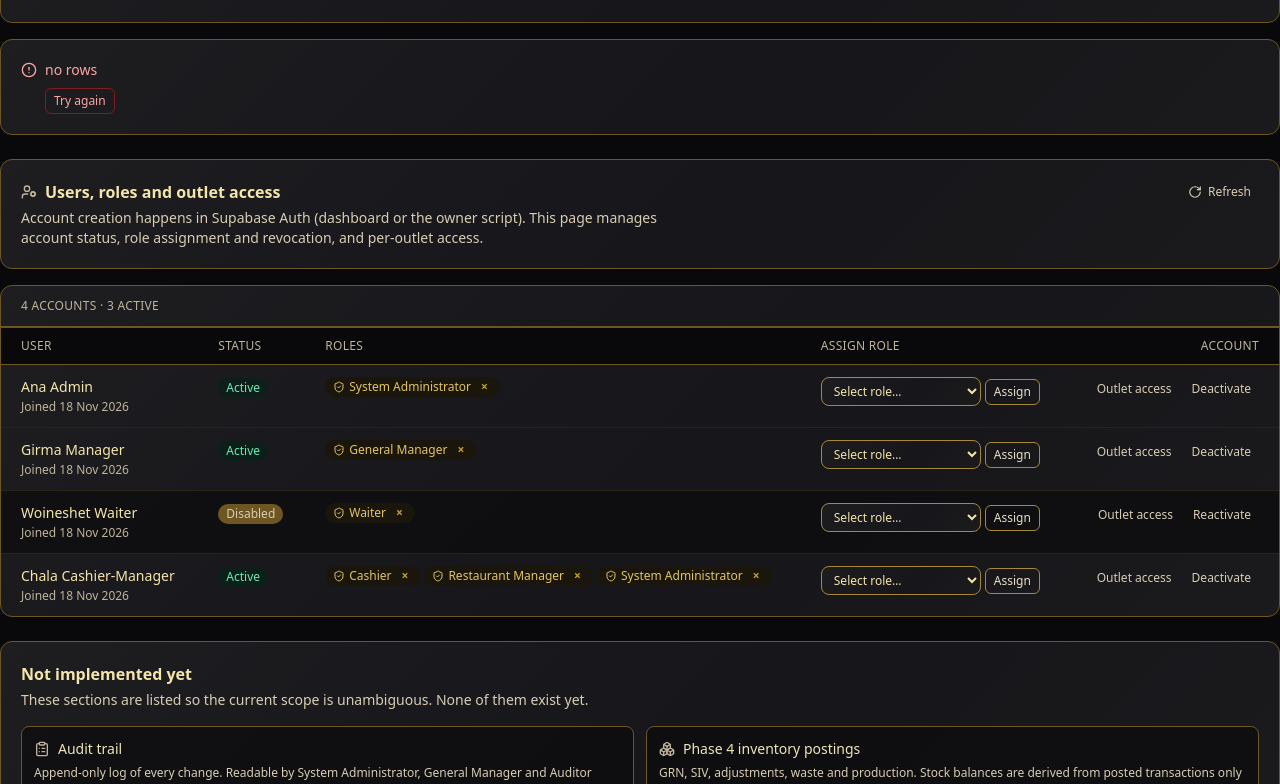
Test: Settings — users › blocks assigning a role the account already has
(page scrolled)
expect the text "Ana Admin" is shown: met, box [21,377,93,396]
Select "System Administrator" in the dropdown named "Role for Ana Admin": (901, 392) [821,377,981,406]
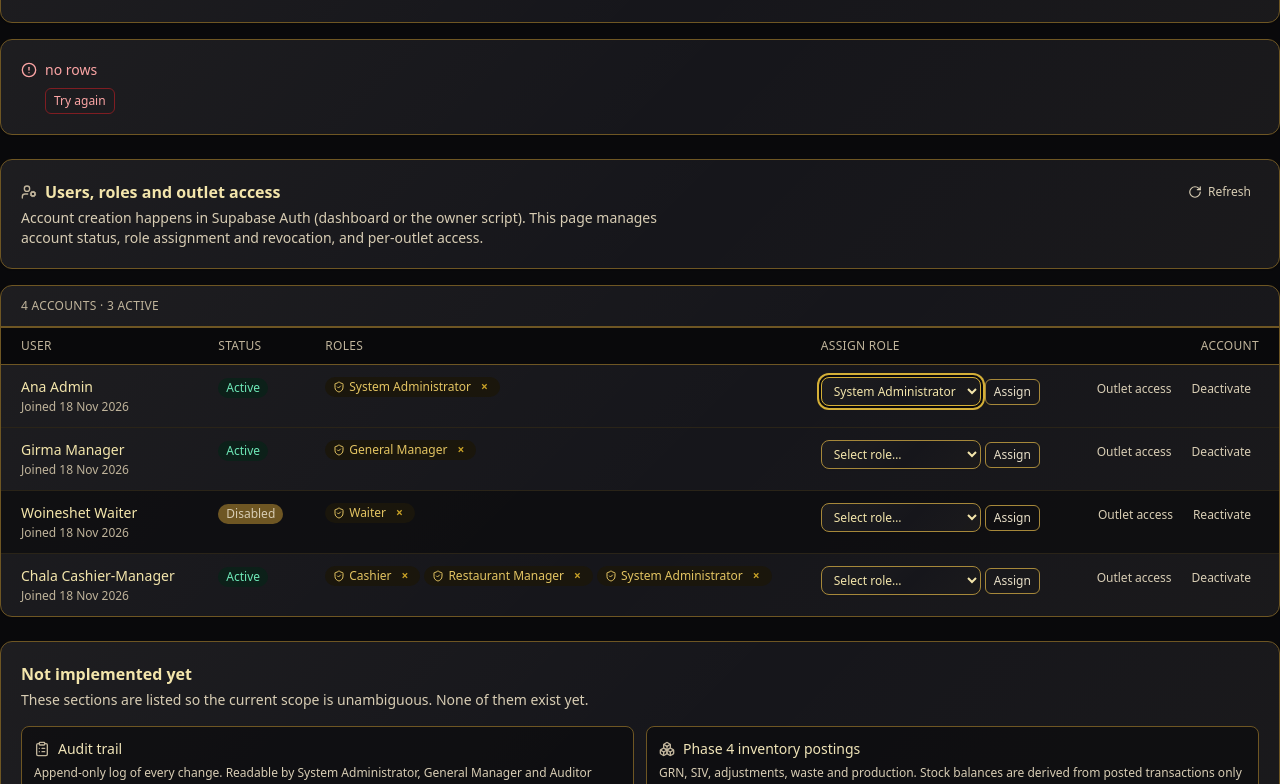
Click the button with aria-label "Assign role to Ana Admin": (1012, 392) [985,378,1040,404]
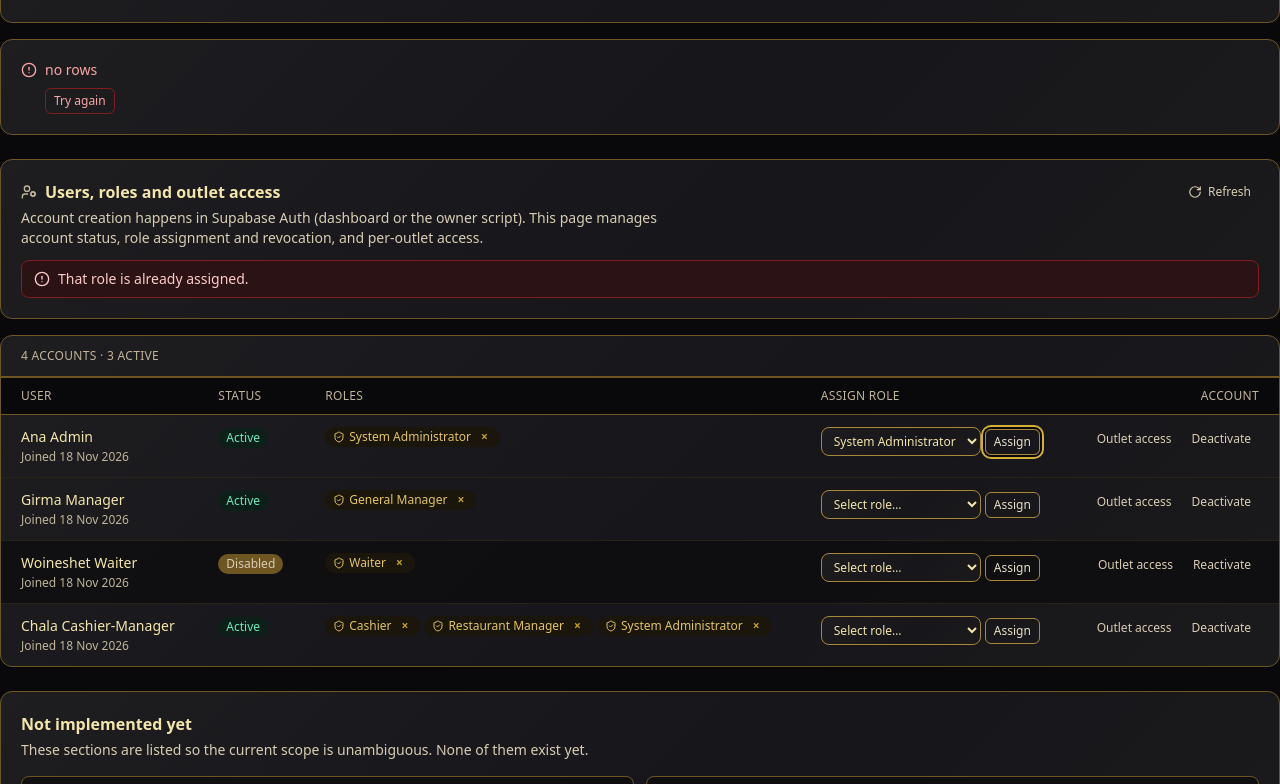
expect the text "That role is already assigned." is shown: met, box [58,269,249,289]
